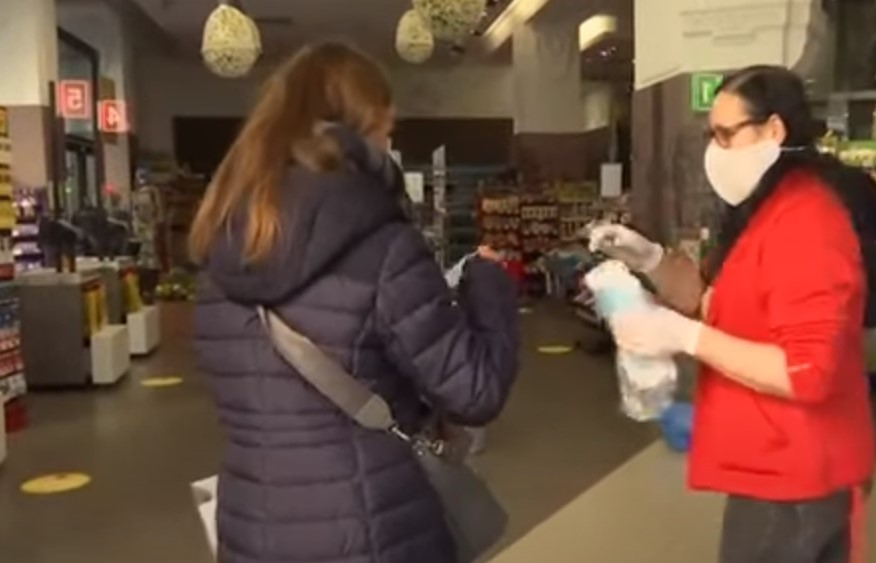face_with_mask: (701, 67, 797, 204)
